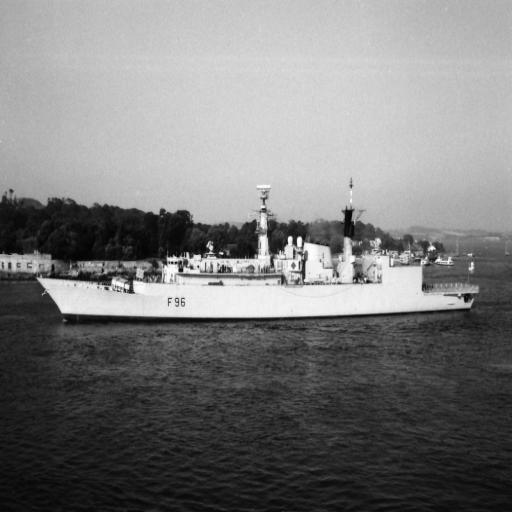Fragata: (38, 174, 481, 326)
